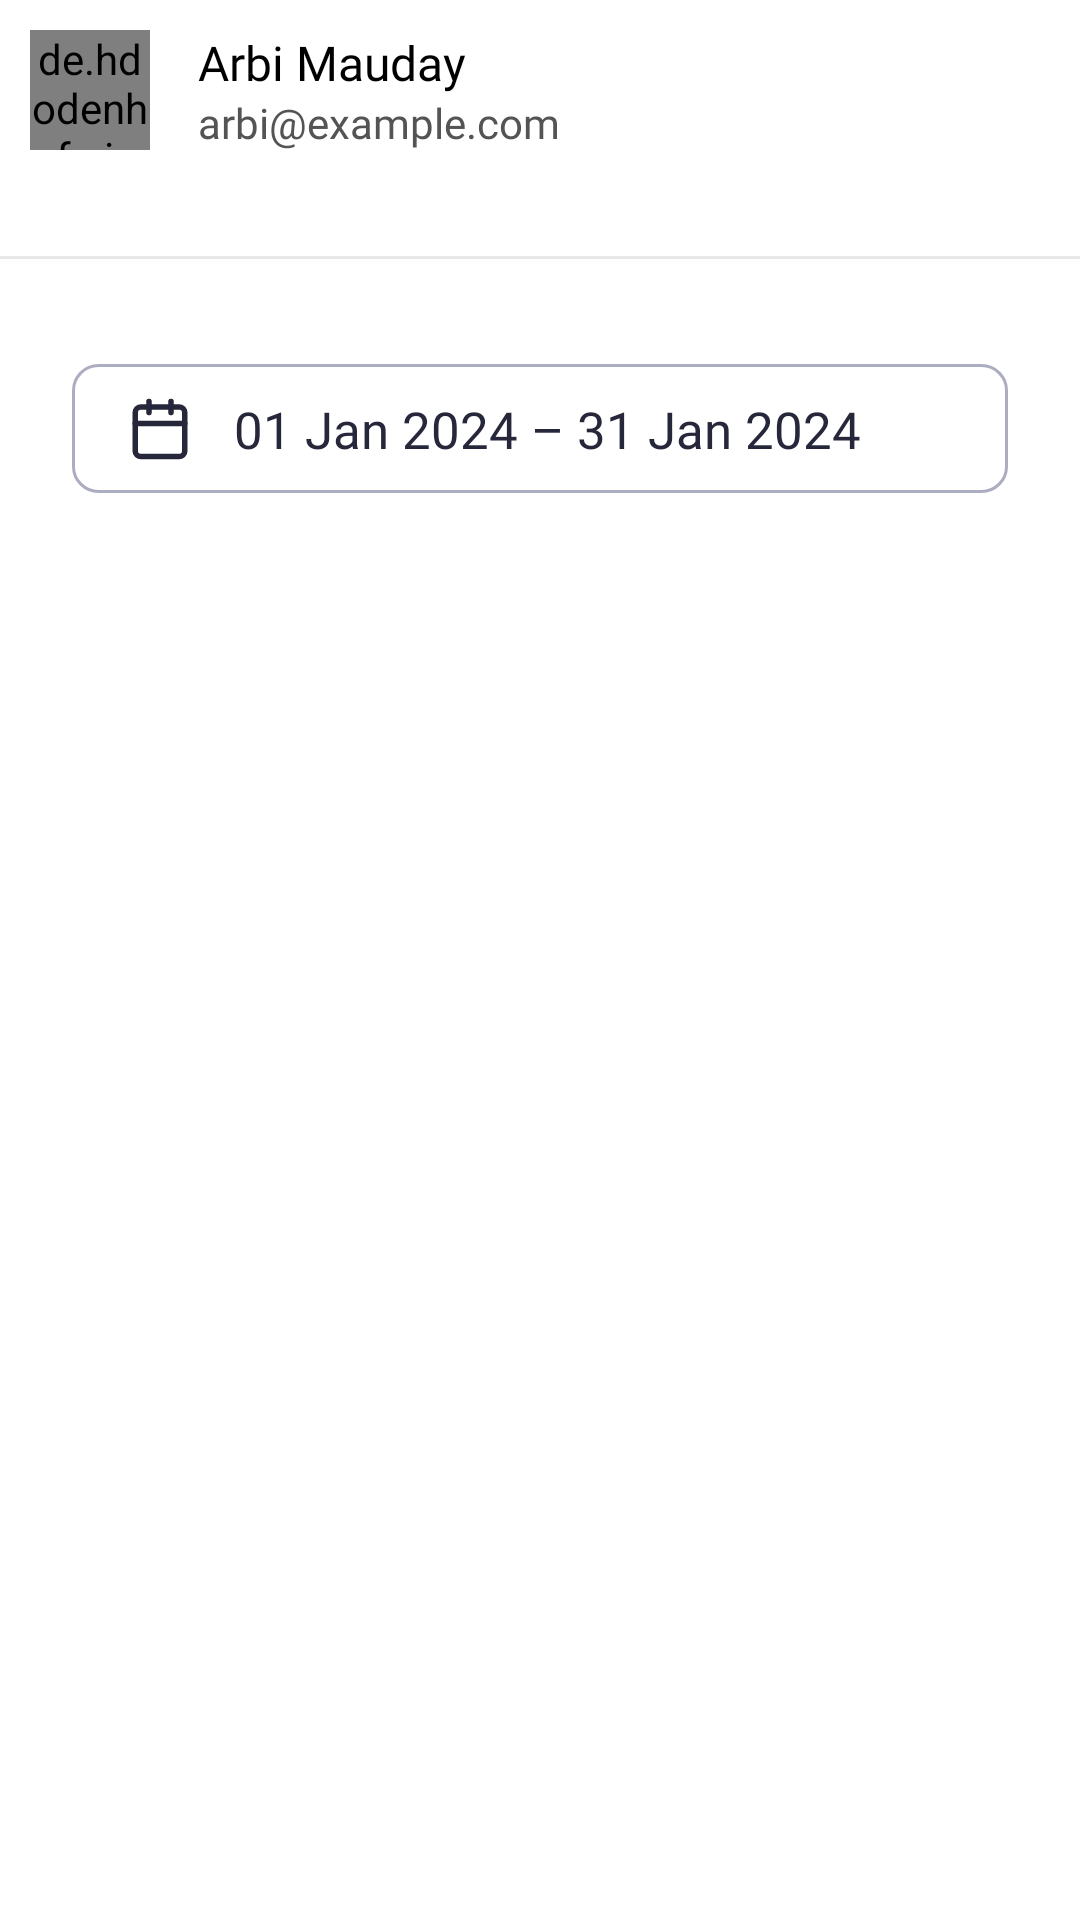

Screen size 1080px×1920px. Icon name, then its box in pixels as BBox(x1, y1, x2, y2):
calendar: BBox(132, 398, 188, 460)
